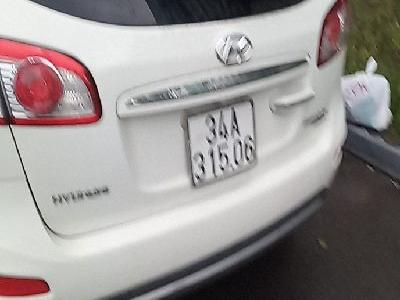car: (185, 97, 259, 190)
